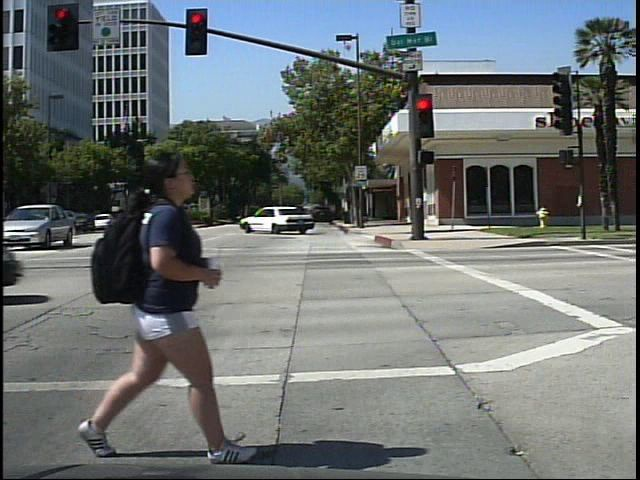person: (77, 126, 265, 468)
